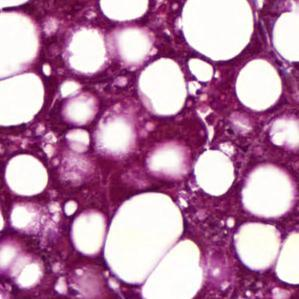steatosis: (184, 0, 255, 61), (236, 57, 284, 112), (4, 154, 50, 198)
